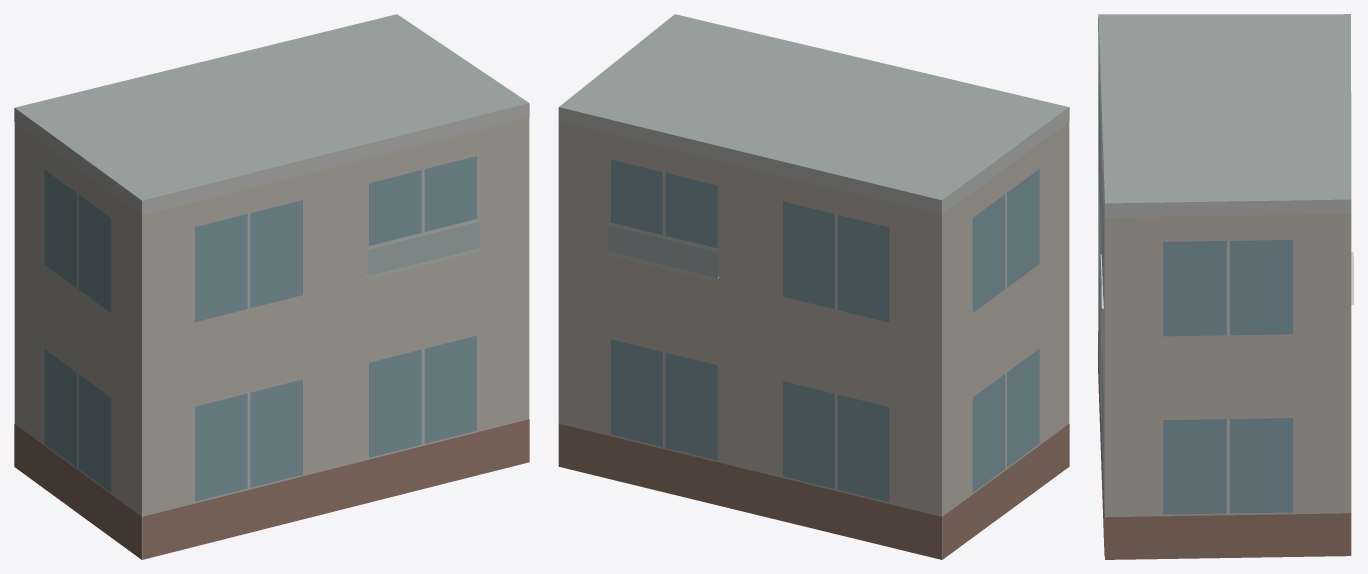
The model's file is survey-upis-32664001.glb.
The picture shows the model from 3 angles, left to right: view 1: azimuth 30°, elevation 25°; view 2: azimuth 150°, elevation 25°; view 3: azimuth 270°, elevation 25°; orthographic projection.
Visible parts, largest first — view 1: survey-upis-32664001.tmp; view 2: survey-upis-32664001.tmp; view 3: survey-upis-32664001.tmp.
Part boxes in pixels (x1,y1,x2,y2): survey-upis-32664001.tmp: (14,14,529,559); survey-upis-32664001.tmp: (558,14,1069,559); survey-upis-32664001.tmp: (1098,14,1353,559).
Bounding box in the file's own units: 6.96 × 6.1 × 3.97.
